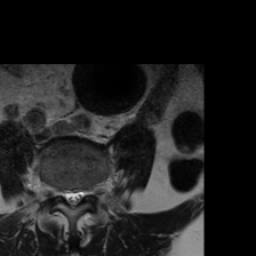CCS_normal: (69, 181, 77, 213)
LFS_stenosis: (85, 178, 93, 202)
LLS_normal: (77, 181, 85, 208)
RFS_stenosis: (54, 179, 62, 203)
RLS_normal: (62, 181, 69, 208)
